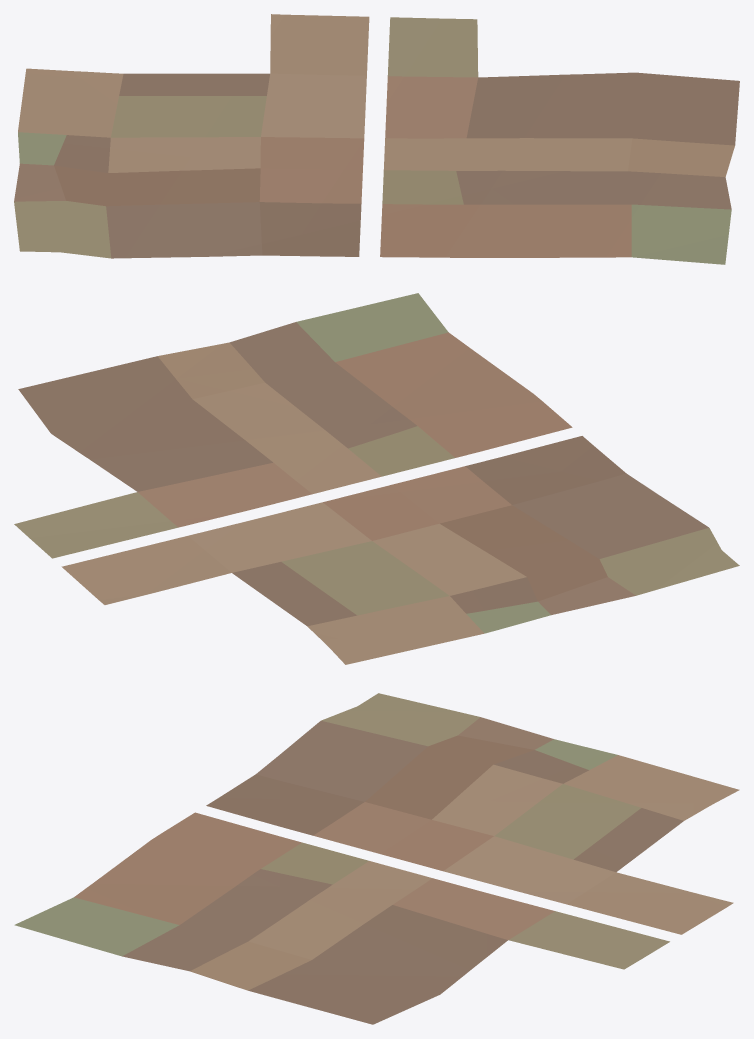
The model's file is farm_3_0_soil.glb.
The picture shows the model from 3 angles, top to bottom: view 1: azimuth 30°, elevation 25°; view 2: azimuth 150°, elevation 25°; view 3: azimuth 270°, elevation 25°; orthographic projection. The views are drawn at different scales.
Visible parts, largest first — view 1: geometry_0; view 2: geometry_0; view 3: geometry_0.
Boxes of the visible parts, bbox=[...] form: geometry_0: bbox=[14, 14, 739, 264]; geometry_0: bbox=[14, 293, 739, 664]; geometry_0: bbox=[14, 693, 739, 1024].
Bounding box in the file's own units: 302 × 4.72 × 281.
